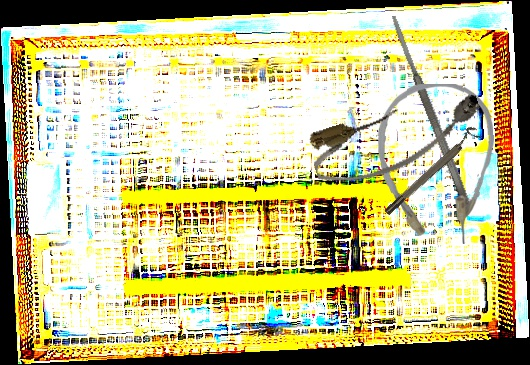Cannula: (304, 83, 491, 194), (376, 82, 496, 246)
Fixation Ring: (379, 124, 483, 217)
Spatula Surgical: (388, 13, 473, 210)
